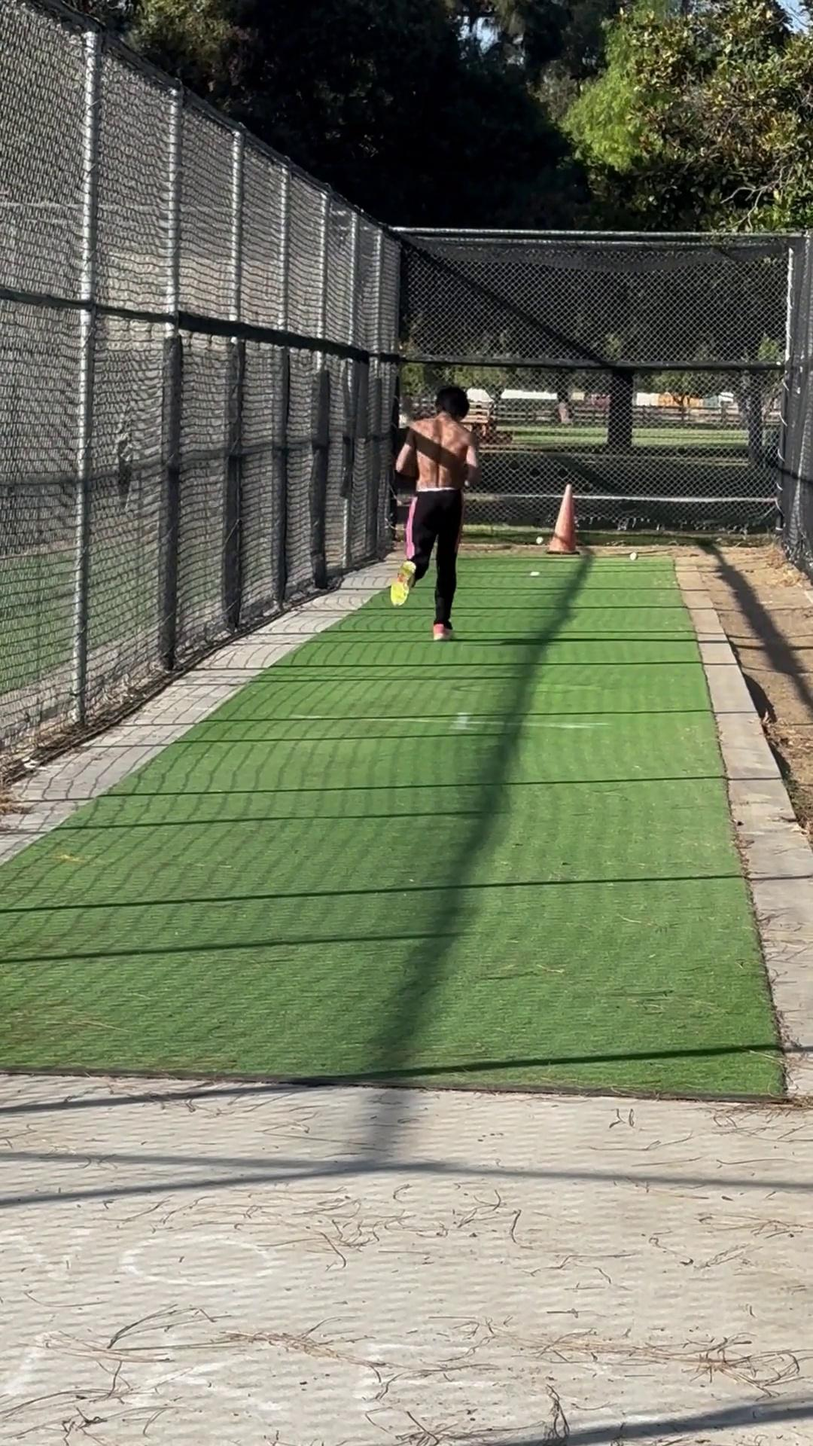ball: (534, 534, 546, 547)
